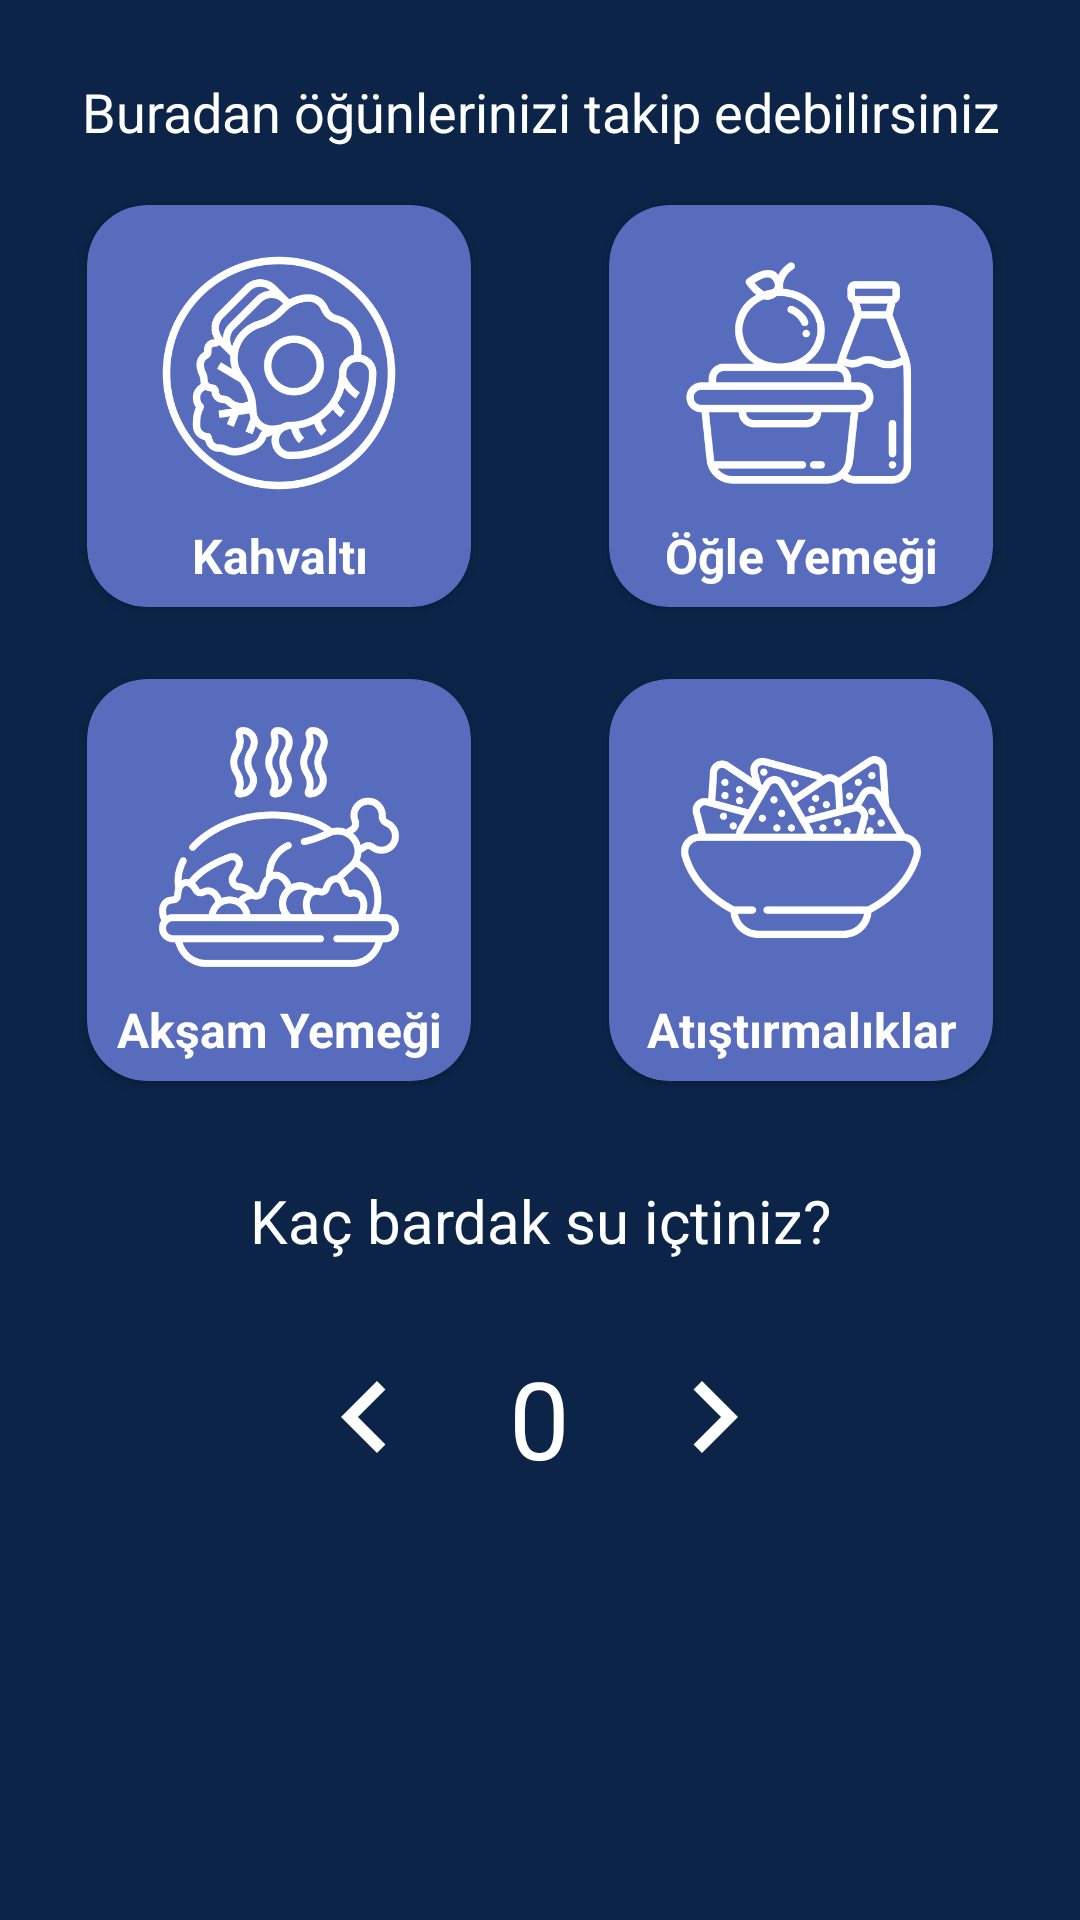

Point at icon controls on the screen. Image size 1080*1920, points as (x=x, y=y).
arrow left: (x=363, y=1417)
arrow right: (x=715, y=1417)
